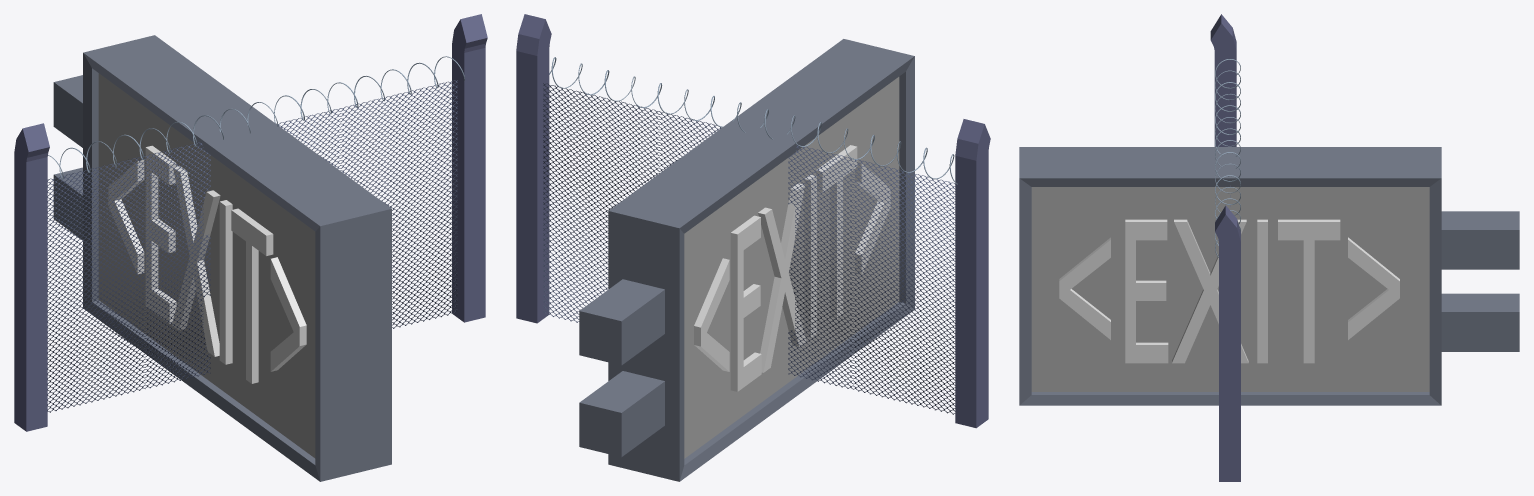
Rendered from fence.fbx.
The picture shows the model from 3 angles, left to right: view 1: azimuth 30°, elevation 25°; view 2: azimuth 150°, elevation 25°; view 3: azimuth 270°, elevation 25°; orthographic projection. The views are drawn at different scales.
Parts seen in each view (by area): view 1: Cube, Plane.001, EXIT.001, Cube.001, Cube.002, Spiral; view 2: Cube, Plane.001, EXIT.001, Cube.001, Cube.002, Spiral; view 3: Cube, EXIT, Plane.001, Cube.001, Cube.002, Spiral.
Part boxes in pixels (left/top/right/bottom): Cube: left=83, top=35, right=391, bottom=481; Plane.001: left=14, top=14, right=487, bottom=431; EXIT.001: left=108, top=145, right=306, bottom=383; Cube.001: left=53, top=75, right=82, bottom=147; Cube.002: left=53, top=167, right=82, bottom=239; Spiral: left=48, top=56, right=464, bottom=179; Cube: left=608, top=39, right=914, bottom=481; Plane.001: left=516, top=14, right=990, bottom=428; EXIT.001: left=694, top=145, right=890, bottom=391; Cube.001: left=579, top=279, right=664, bottom=365; Cube.002: left=579, top=371, right=664, bottom=457; Spiral: left=549, top=57, right=957, bottom=184; Cube: left=1019, top=147, right=1441, bottom=405; EXIT: left=1059, top=219, right=1399, bottom=363; Plane.001: left=1210, top=14, right=1240, bottom=481; Cube.001: left=1441, top=211, right=1519, bottom=269; Cube.002: left=1441, top=293, right=1519, bottom=351; Spiral: left=1215, top=59, right=1240, bottom=257.
Size of the model in its own units: 413 by 270 by 436.
